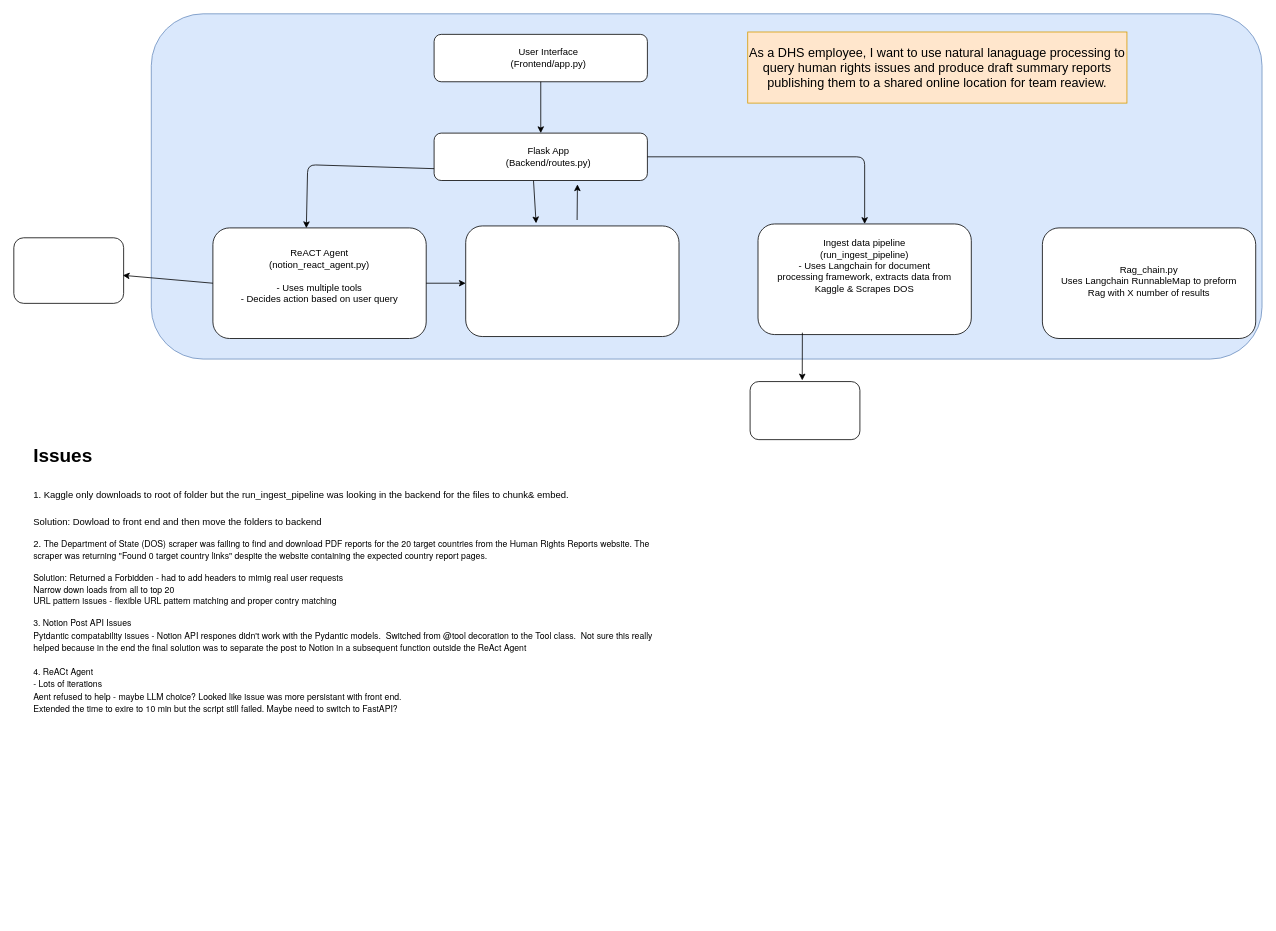
This 1276x931 diagram has some shape labels left out. The centre of each missing label's shape, as x and y in pixels:
"Chat Memory DB & Kaggle Data (SQlList) - Logs Chat - Retains Kaggle CSV" goes at (x=572, y=281).
"KaggleHub Department of State" goes at (x=804, y=410).
"Notion API Call Post" goes at (x=68, y=270).
